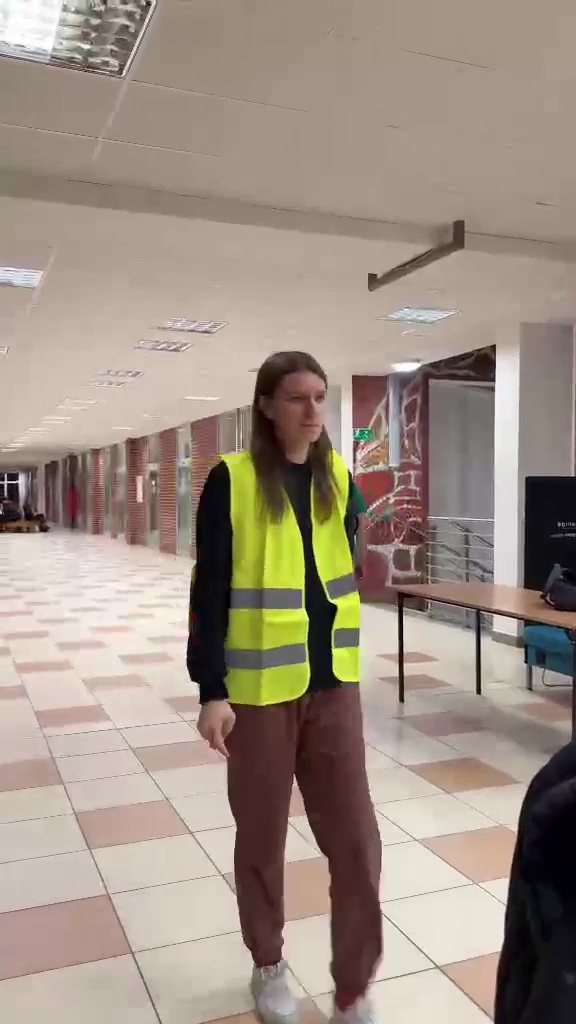vest: (194, 353, 391, 961)
